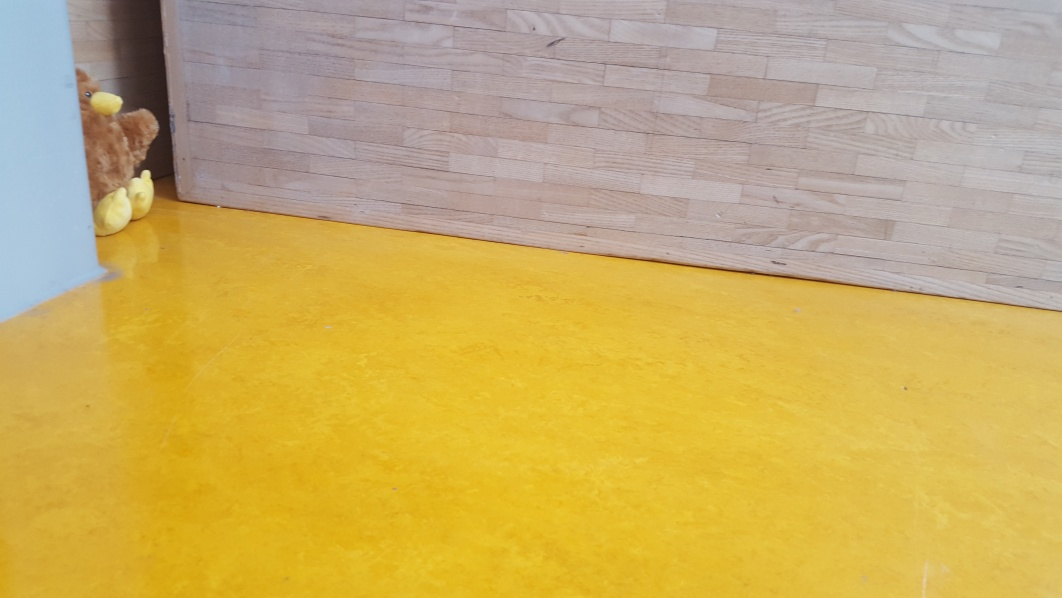chicken: (75, 60, 159, 240)
